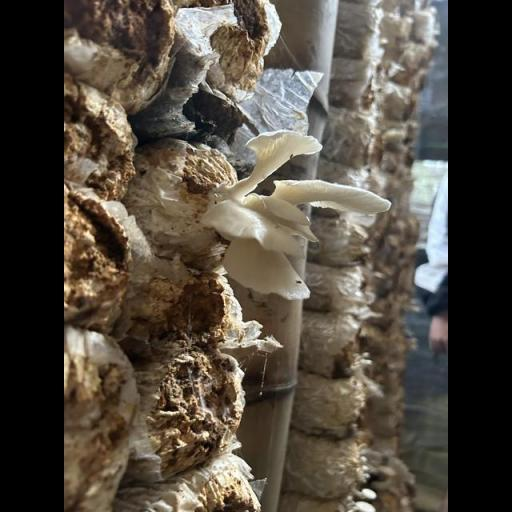White Oyster Mushroom: (199, 118, 394, 320)
